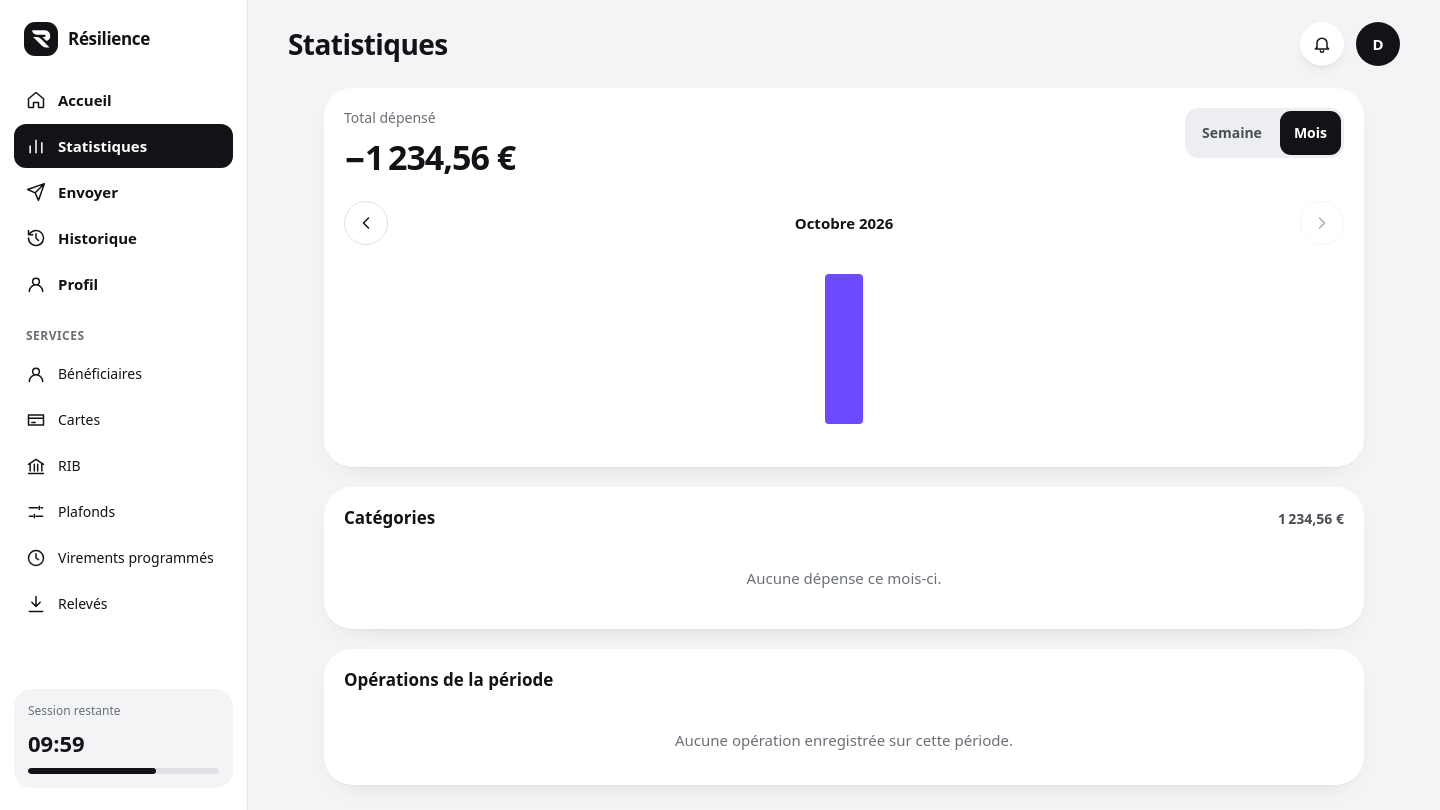
Test: Front - revue complète › statistiques : jamais le total de la période précédente pendant le rechargement
Expected: the text with test id "stats-total" reads "−1 234,56 €", top-left (344, 134), bottom-right (515, 180)
Click the button named "Période précédente" at (366, 223), box top-left (344, 201), bottom-right (388, 245)
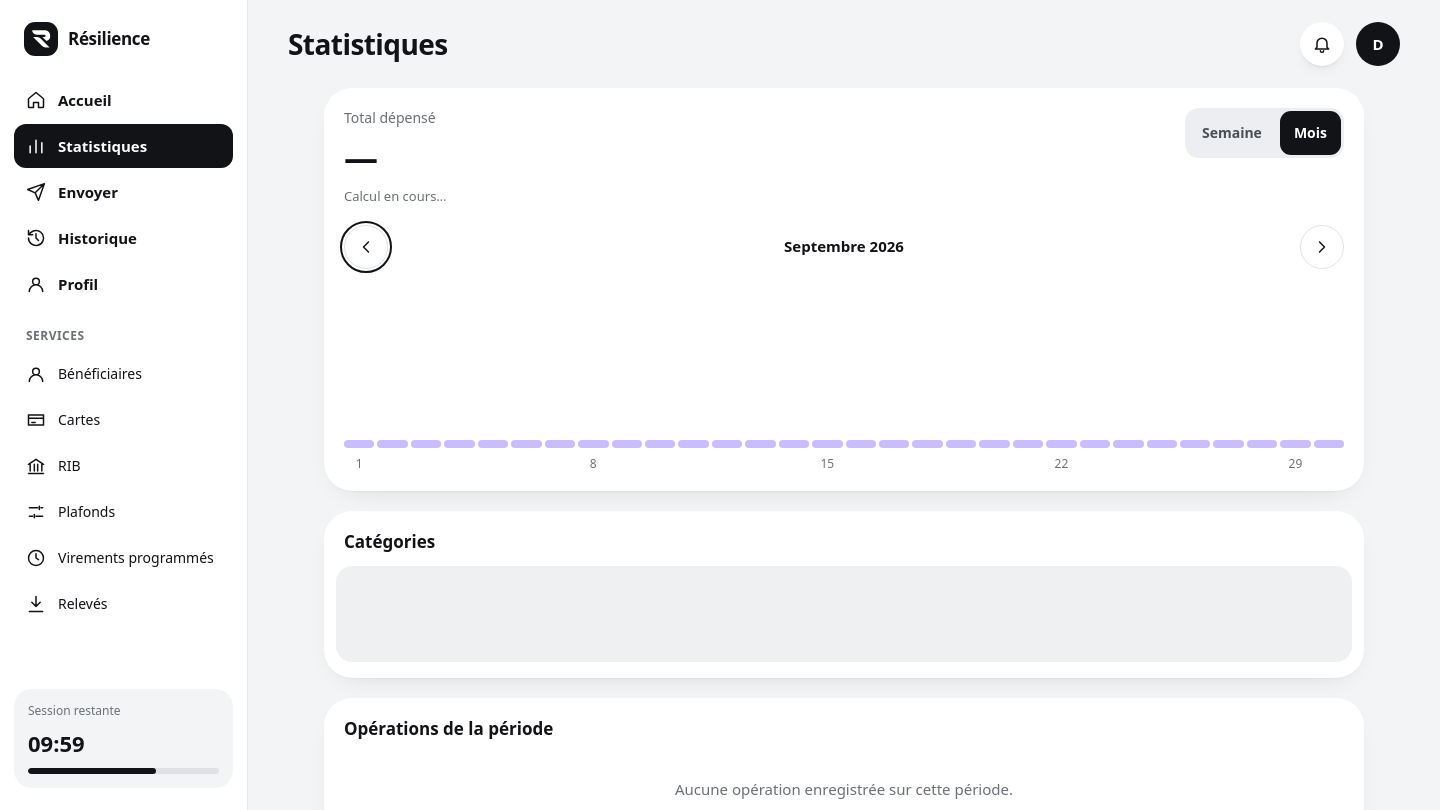
Expected: the text with test id "stats-total" reads "—", top-left (344, 134), bottom-right (377, 180)
Expected: the text "Calcul en cours…" is shown, top-left (344, 187), bottom-right (447, 206)
